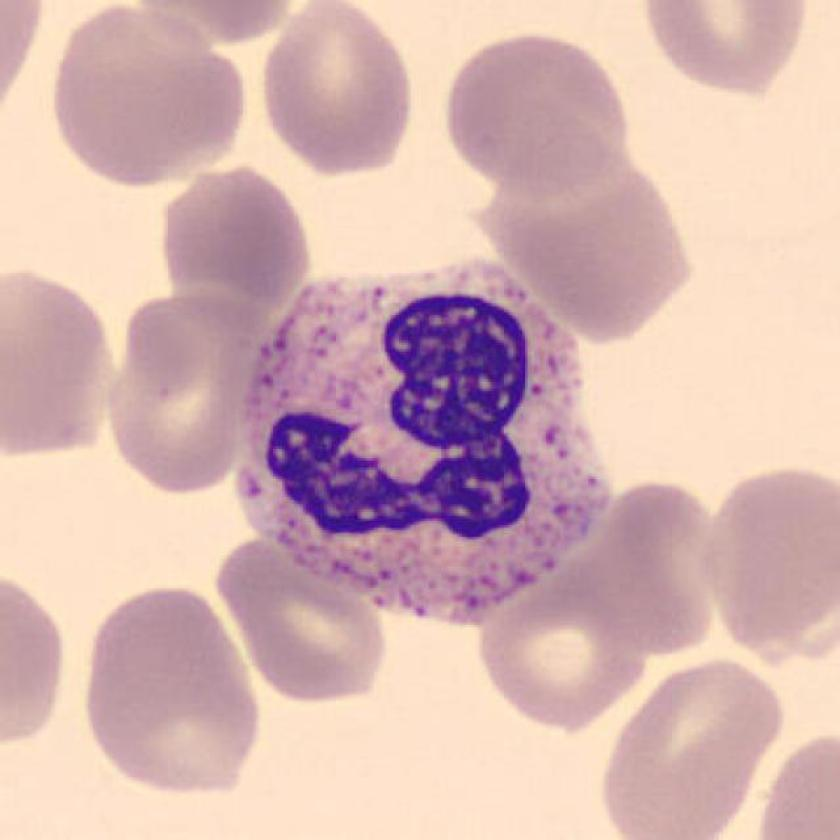neutrophil: (235, 260, 611, 625)
